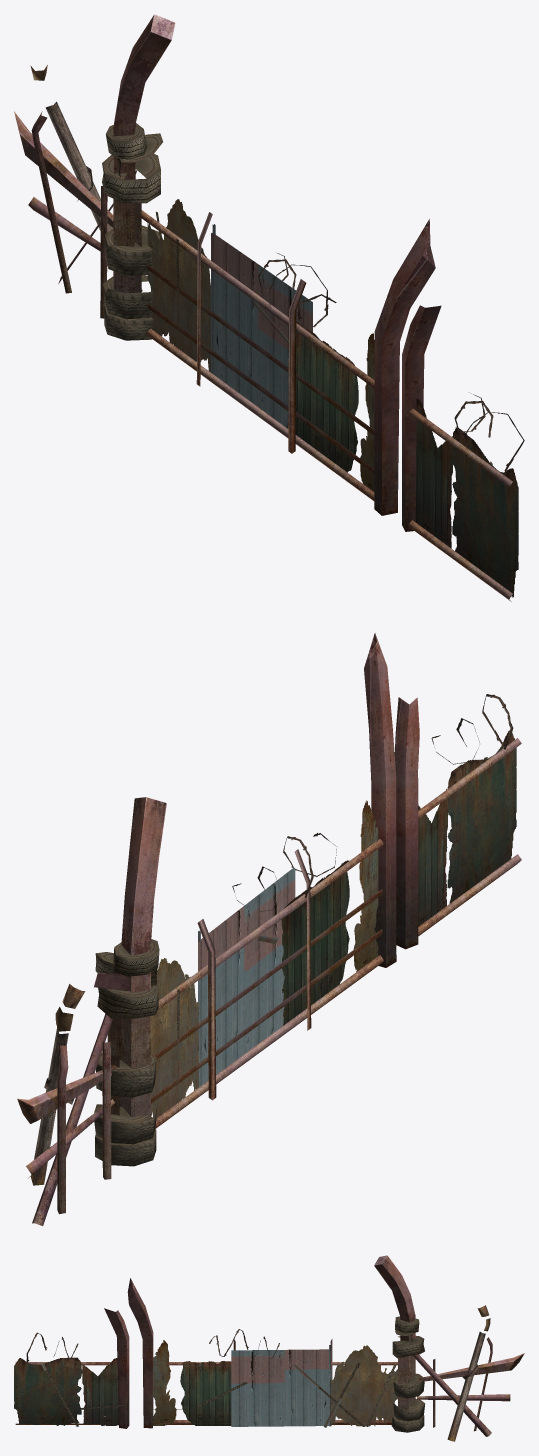
Rendered from Prop_Wj016_lod1.glb.
The picture shows the model from 3 angles, top to bottom: view 1: azimuth 30°, elevation 25°; view 2: azimuth 150°, elevation 25°; view 3: azimuth 270°, elevation 25°; orthographic projection. The views are drawn at different scales.
Parts seen in each view (by area): view 1: xiutz_wj016_0_lod0; view 2: xiutz_wj016_0_lod0; view 3: xiutz_wj016_0_lod0.
Part boxes in pixels (x1,y1,x2,y2): xiutz_wj016_0_lod0: [14, 14, 524, 601]; xiutz_wj016_0_lod0: [17, 633, 521, 1225]; xiutz_wj016_0_lod0: [14, 1255, 524, 1441].
Bounding box in the file's own units: 1.42 × 5.81 × 14.98.
Materials: 2 (2 with a texture image).
